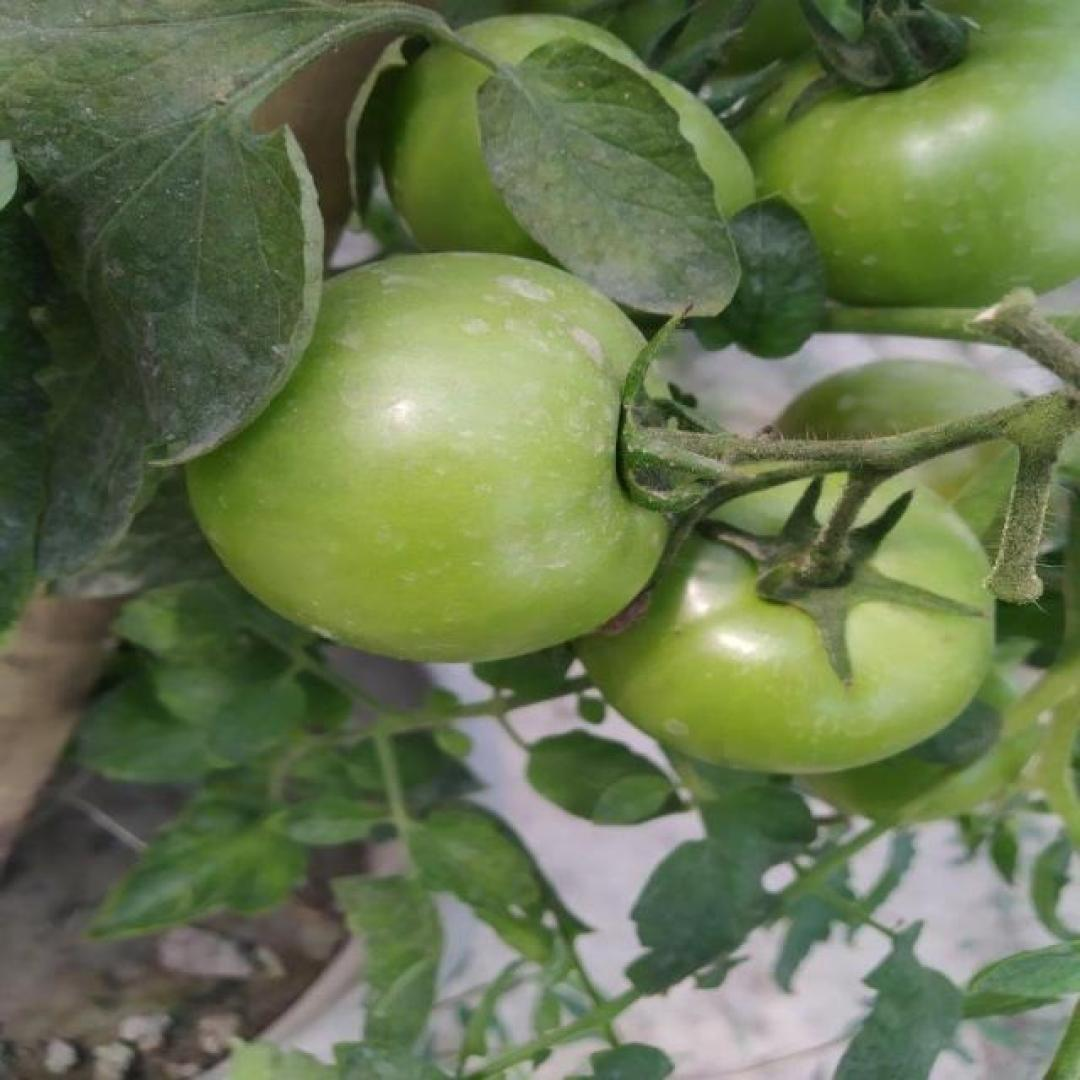mentah: (177, 248, 680, 663), (564, 450, 1004, 774)
